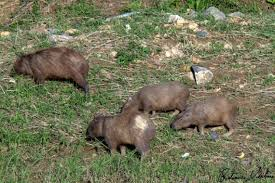capivara: (12, 46, 91, 95), (86, 112, 155, 162), (170, 95, 236, 140), (119, 81, 190, 115)
